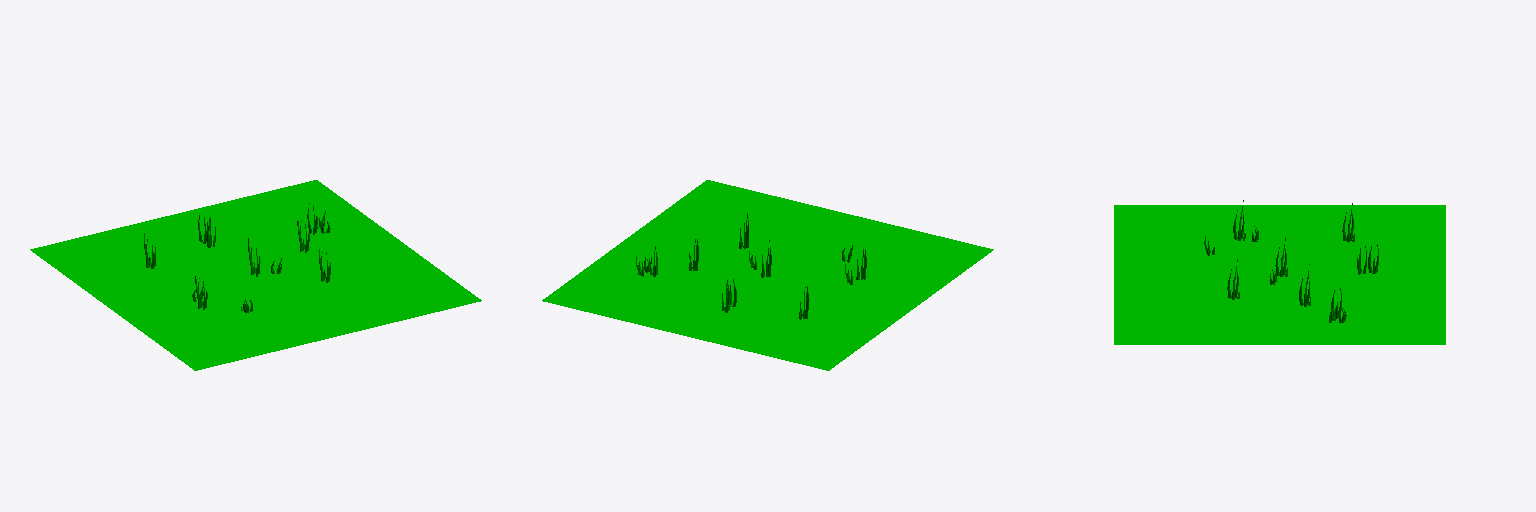
File: Grass.obj
The picture shows the model from 3 angles: view 1: azimuth 30°, elevation 25°; view 2: azimuth 150°, elevation 25°; view 3: azimuth 270°, elevation 25°; orthographic projection.
Size of the model in its own units: 20 by 2.6 by 20.